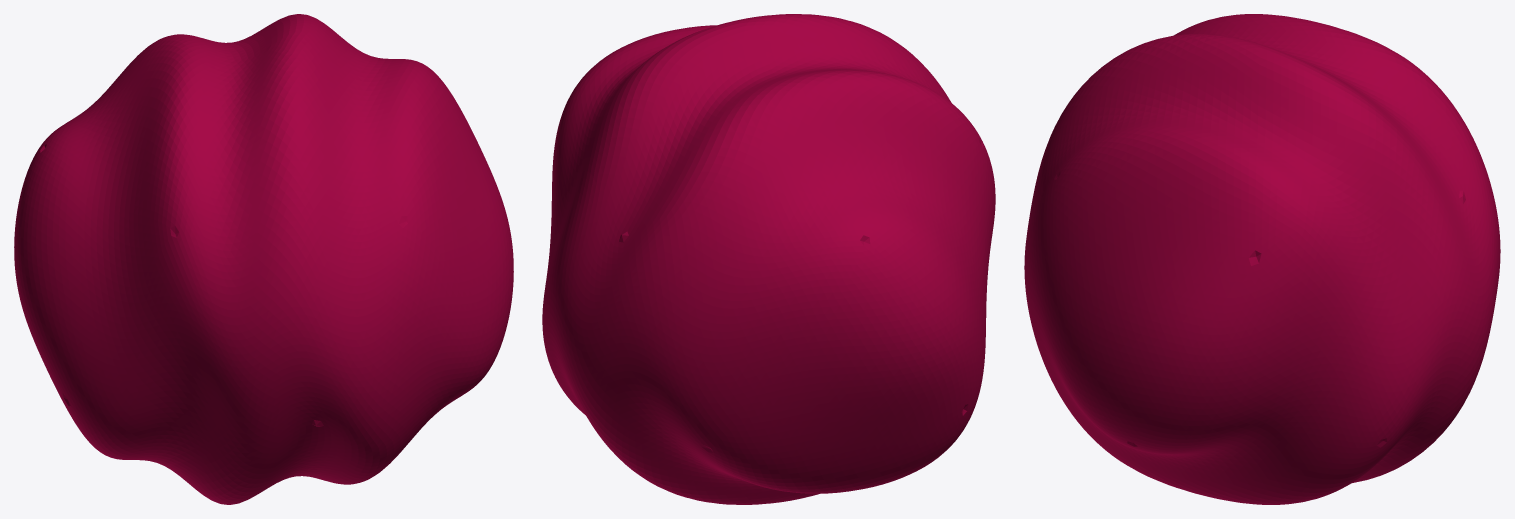
Rendered from Blobbie-04.dae.
3 renders of one model, left to right at view 1: azimuth 30°, elevation 25°; view 2: azimuth 150°, elevation 25°; view 3: azimuth 270°, elevation 25°, orthographic. The views are drawn at different scales.
Visible parts, largest first — view 1: Blobbie; view 2: Blobbie; view 3: Blobbie.
Part boxes in pixels (<box>): Blobbie: <box>14,14,513,504</box>; Blobbie: <box>542,14,995,504</box>; Blobbie: <box>1024,14,1500,504</box>.
Bounding box in the file's own units: 2.08 × 2 × 2.11.
